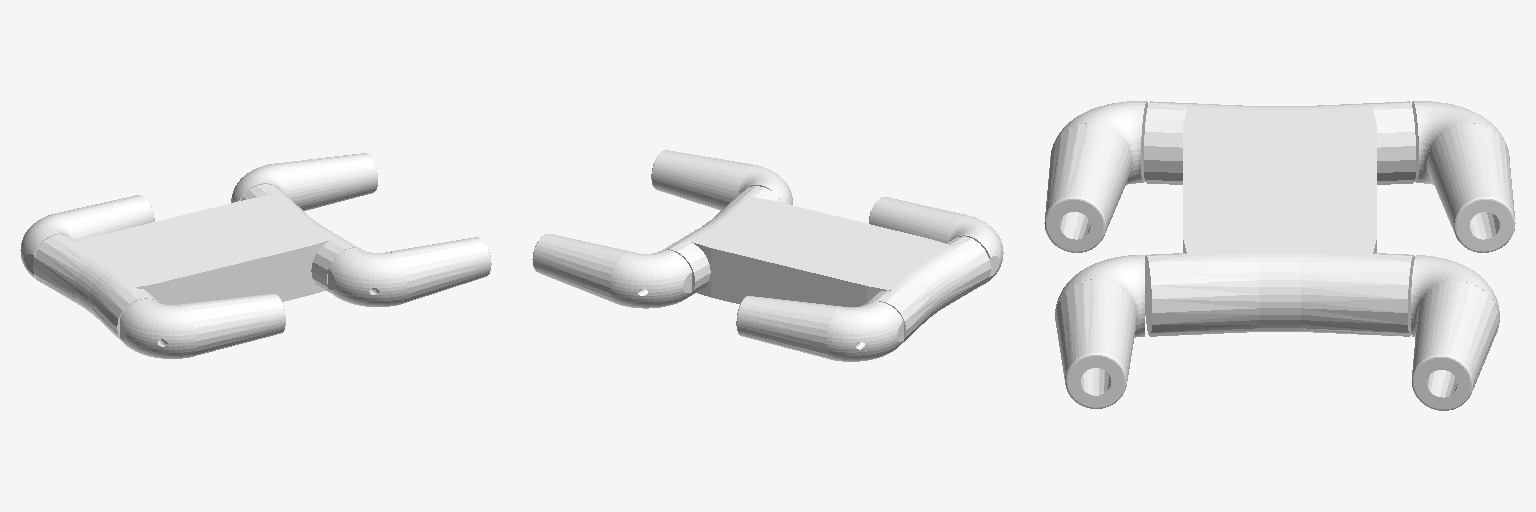
The robot description file, URDF, robot "6_degree":
<?xml version="1.0" encoding="utf-8"?>
<!-- This URDF was automatically created by SolidWorks to URDF Exporter! Originally created by [author] ([email redacted]) 
     Commit Version: 1.5.1-0-g916b5db  Build Version: 1.5.7152.31018
     For more information, please see http://wiki.ros.org/sw_urdf_exporter -->
<robot
  name="6_degree">
  <link
    name="base_link">
    <inertial>
      <origin
        xyz="2.0817E-17 1.6401E-08 1.7347E-18"
        rpy="0 0 0" />
      <mass
        value="2.942" />
      <inertia
        ixx="0.0102629"
        ixy="-1.0621E-18"
        ixz="-1.5077E-10"
        iyy="0.0394654"
        iyz="8.3878E-18"
        izz="0.0473397" />
    </inertial>
    <visual>
      <origin
        xyz="0 0 0"
        rpy="0 0 0" />
      <geometry>
        <mesh
          filename="package://6_degree/meshes/base_link.STL" />
      </geometry>
      <material
        name="">
        <color
          rgba="1 1 1 1" />
      </material>
    </visual>
    <collision>
      <origin
        xyz="0 0 0"
        rpy="0 0 0" />
      <geometry>
        <mesh
          filename="package://6_degree/meshes/base_link.STL" />
      </geometry>
    </collision>
  </link>
  <link
    name="left_front_link">
    <inertial>
      <origin
        xyz="-3.0104E-08 0.060282 -0.029873"
        rpy="0 0 0" />
      <mass
        value="0.092" />
      <inertia
        ixx="0.0002604"
        ixy="5.0086E-10"
        ixz="1.0085E-09"
        iyy="0.0000501"
        iyz="0.9E-06"
        izz="0.00026" />
    </inertial>
    <visual>
      <origin
        xyz="0 0 0"
        rpy="0 0 0" />
      <geometry>
        <mesh
          filename="package://6_degree/meshes/left_front_link.STL" />
      </geometry>
      <material
        name="">
        <color
          rgba="1 1 1 1" />
      </material>
    </visual>
    <collision>
      <origin
        xyz="0 0 0"
        rpy="0 0 0" />
      <geometry>
        <mesh
          filename="package://6_degree/meshes/left_front_link.STL" />
      </geometry>
    </collision>
  </link>
  <joint
    name="left_front_leg"
    type="continuous">
    <origin
      xyz="0.14077 0.10244 0"
      rpy="1.5708 1.5708 0" />
    <parent
      link="base_link" />
    <child
      link="left_front_link" />
    <axis
      xyz="0 0.10453 -0.99452" />
    <limit
      effort="5"
      velocity="487" />
  </joint>
  <link
    name="right_front_link">
    <inertial>
      <origin
        xyz="3.0104E-08 0.060282 0.029873"
        rpy="0 0 0" />
      <mass
        value="0.092" />
      <inertia
        ixx="0.0002604"
        ixy="-5.0086E-10"
        ixz="1.0085E-09"
        iyy="0.0000501"
        iyz="-0.9E-06"
        izz="0.00026" />
    </inertial>
    <visual>
      <origin
        xyz="0 0 0"
        rpy="0 0 0" />
      <geometry>
        <mesh
          filename="package://6_degree/meshes/right_front_link.STL" />
      </geometry>
      <material
        name="">
        <color
          rgba="1 1 1 1" />
      </material>
    </visual>
    <collision>
      <origin
        xyz="0 0 0"
        rpy="0 0 0" />
      <geometry>
        <mesh
          filename="package://6_degree/meshes/right_front_link.STL" />
      </geometry>
    </collision>
  </link>
  <joint
    name="right_front_leg"
    type="continuous">
    <origin
      xyz="0.14077 -0.10244 0"
      rpy="1.5708 1.5708 0" />
    <parent
      link="base_link" />
    <child
      link="right_front_link" />
    <axis
      xyz="0 0.10453 0.99452" />
    <limit
      effort="5"
      velocity="487" />
  </joint>
  <link
    name="right_back_link">
    <inertial>
      <origin
        xyz="6.1735E-09 0.05683 0.03601"
        rpy="0 0 0" />
      <mass
        value="0.092" />
      <inertia
        ixx="0.0002604"
        ixy="-6.7284E-10"
        ixz="6.8395E-10"
        iyy="0.0000526"
        iyz="-2.27E-05"
        izz="0.0002575" />
    </inertial>
    <visual>
      <origin
        xyz="0 0 0"
        rpy="0 0 0" />
      <geometry>
        <mesh
          filename="package://6_degree/meshes/right_back_link.STL" />
      </geometry>
      <material
        name="">
        <color
          rgba="1 1 1 1" />
      </material>
    </visual>
    <collision>
      <origin
        xyz="0 0 0"
        rpy="0 0 0" />
      <geometry>
        <mesh
          filename="package://6_degree/meshes/right_back_link.STL" />
      </geometry>
    </collision>
  </link>
  <joint
    name="right_back_leg"
    type="continuous">
    <origin
      xyz="-0.14077 -0.10244 0"
      rpy="1.6755 1.5708 0" />
    <parent
      link="base_link" />
    <child
      link="right_back_link" />
    <axis
      xyz="0 0 1" />
    <limit
      effort="5"
      velocity="487" />
  </joint>
  <link
    name="left_back_link">
    <inertial>
      <origin
        xyz="-6.1735E-09 0.052755 -0.041754"
        rpy="0 0 0" />
      <mass
        value="0.092" />
      <inertia
        ixx="0.0002604"
        ixy="7.4065E-10"
        ixz="6.0988E-10"
        iyy="0.0000596"
        iyz="0.0000435"
        izz="0.0002506" />
    </inertial>
    <visual>
      <origin
        xyz="0 0 0"
        rpy="0 0 0" />
      <geometry>
        <mesh
          filename="package://6_degree/meshes/left_back_link.STL" />
      </geometry>
      <material
        name="">
        <color
          rgba="1 1 1 1" />
      </material>
    </visual>
    <collision>
      <origin
        xyz="0 0 0"
        rpy="0 0 0" />
      <geometry>
        <mesh
          filename="package://6_degree/meshes/left_back_link.STL" />
      </geometry>
    </collision>
  </link>
  <joint
    name="left_back_leg"
    type="continuous">
    <origin
      xyz="-0.14077 0.10244 0"
      rpy="1.5708 1.5708 0" />
    <parent
      link="base_link" />
    <child
      link="left_back_link" />
    <axis
      xyz="0 -0.10453 -0.99452" />
    <limit
      effort="5"
      velocity="487" />
  </joint>
</robot>

--- What the picture shows (computed from the rendered views, not written in the file) ---
Views: 3 orthographic renders of the robot side by side, from view 1: azimuth 30°, elevation 25°; view 2: azimuth 150°, elevation 25°; view 3: azimuth 270°, elevation 25°.
Robot: 6_degree — 5 links, 4 joints (4 continuous); root link base_link; default pose: every joint at zero.
Links seen in each view (by area): view 1: base_link, right_back_link, right_front_link, left_front_link, left_back_link; view 2: base_link, left_back_link, left_front_link, right_front_link, right_back_link; view 3: base_link, left_back_link, right_back_link, left_front_link, right_front_link.
Link boxes in pixels (x1,y1,x2,y2): base_link: (33,184,360,339); right_back_link: (120,293,285,358); right_front_link: (328,237,491,306); left_front_link: (231,153,377,210); left_back_link: (20,195,154,282); base_link: (663,186,990,341); left_back_link: (736,296,903,361); left_front_link: (532,234,691,308); right_front_link: (651,150,792,210); right_back_link: (869,197,1003,284); base_link: (1144,101,1415,336); left_back_link: (1412,101,1515,252); right_back_link: (1044,101,1147,252); left_front_link: (1411,255,1499,410); right_front_link: (1055,255,1144,408).
Size in the robot's own frame: 0.477 by 0.3655 by 0.064 metres.
5 mesh visuals loaded from 5 distinct referenced files (5 binary STL).